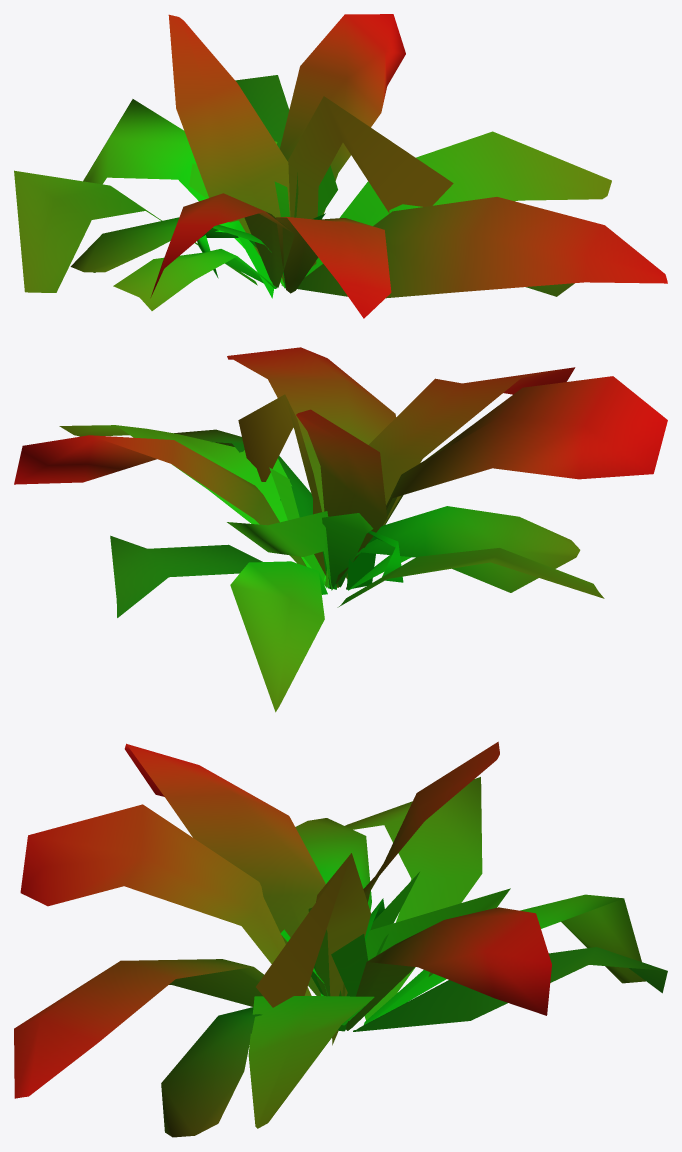
File: Fern_LOD2_Var2_rmAsg.fbx
3 renders of one model, top to bottom at view 1: azimuth 30°, elevation 25°; view 2: azimuth 150°, elevation 25°; view 3: azimuth 270°, elevation 25°, orthographic. The views are drawn at different scales.
Parts seen in each view (by area): view 1: _1d23_Var2_LOD2; view 2: _1d23_Var2_LOD2; view 3: _1d23_Var2_LOD2.
Part boxes in pixels (x1,y1,x2,y2): _1d23_Var2_LOD2: (14, 14, 667, 318); _1d23_Var2_LOD2: (14, 347, 667, 712); _1d23_Var2_LOD2: (14, 741, 667, 1137).
Bounding box in the file's own units: 179 × 72.89 × 164.
